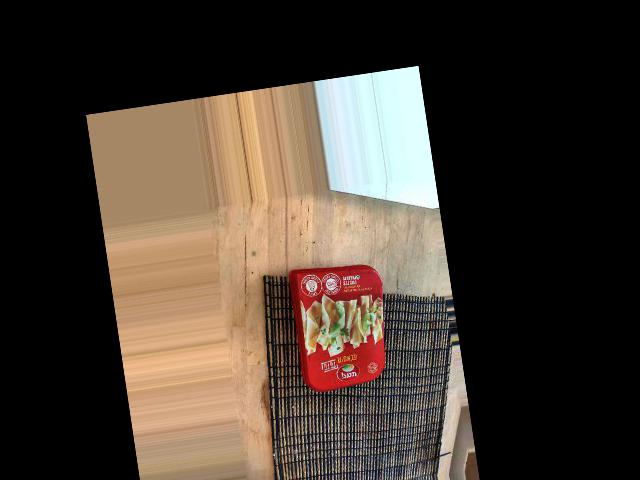cheese: (324, 328, 477, 431)
